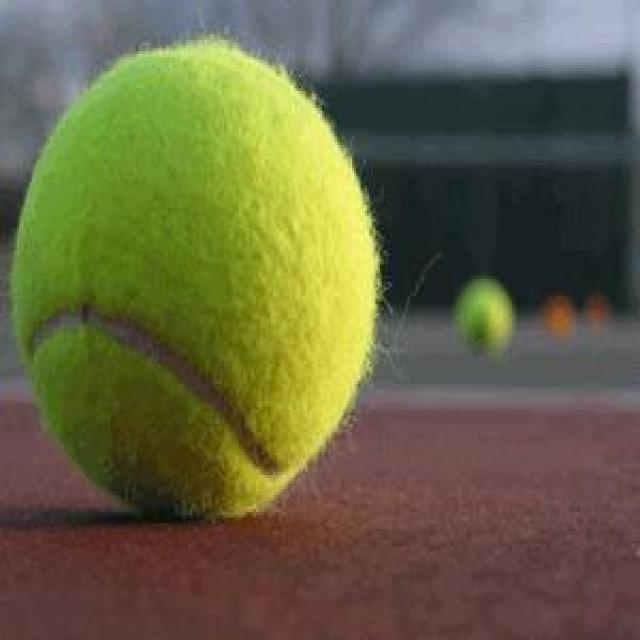Tennis Ball: (11, 37, 384, 521), (452, 276, 516, 361)
